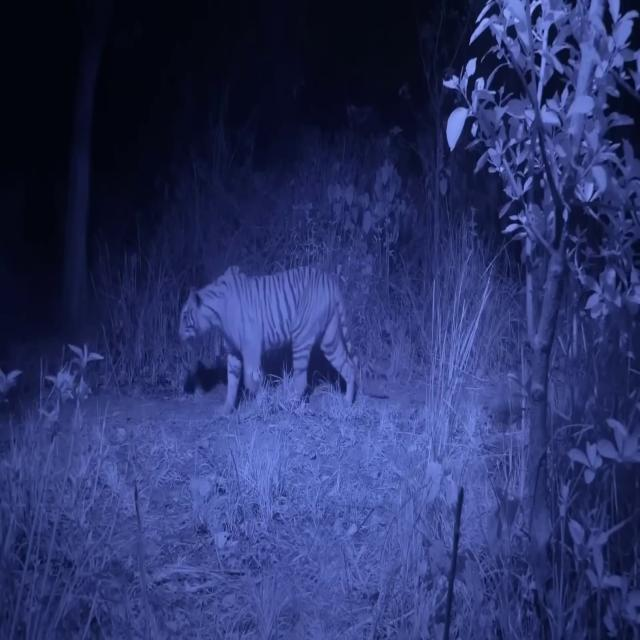tiger: (178, 263, 388, 426)
